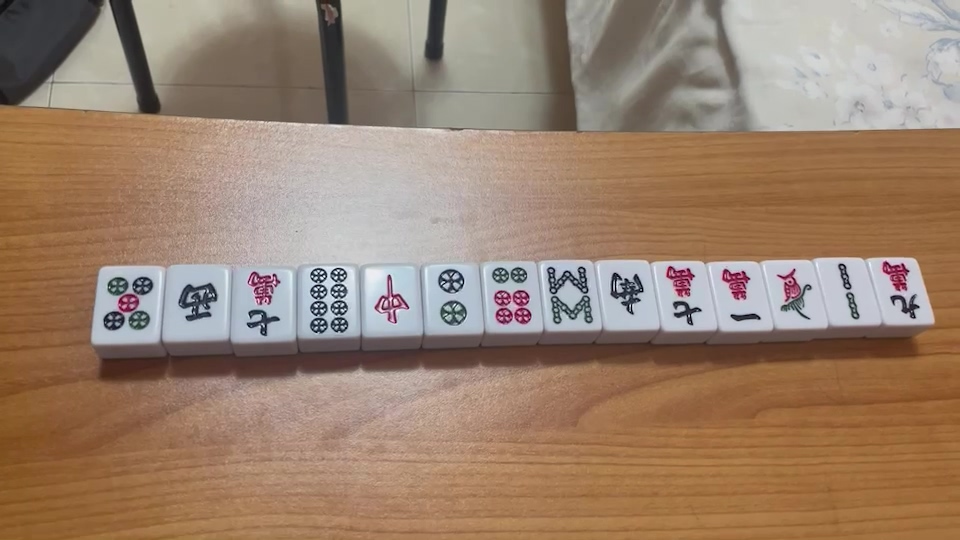b-1: (776, 265, 815, 321)
b-2: (832, 261, 863, 322)
b-8: (545, 262, 594, 329)
c-1: (719, 266, 763, 325)
c-7: (238, 269, 284, 336), (663, 265, 704, 327)
c-9: (879, 258, 925, 323)
d-2: (434, 267, 469, 329)
d-5: (96, 275, 155, 331)
d-6: (491, 266, 533, 326)
d-8: (305, 266, 350, 335)
honors-red: (369, 273, 411, 325)
honors-south: (609, 267, 645, 315)
honors-west: (173, 277, 220, 325)
